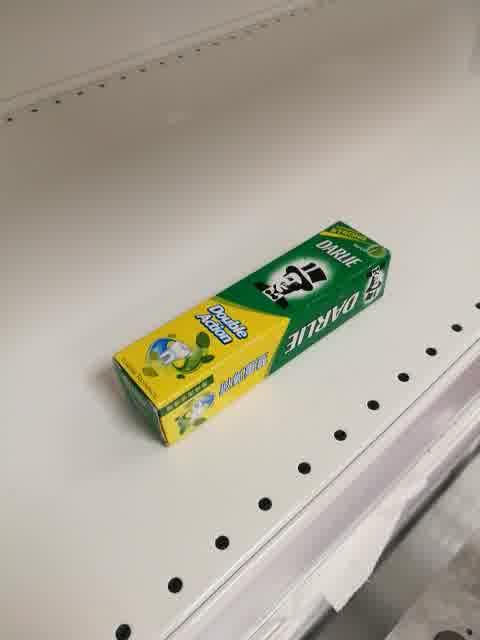toothpaste: (112, 219, 391, 449)
